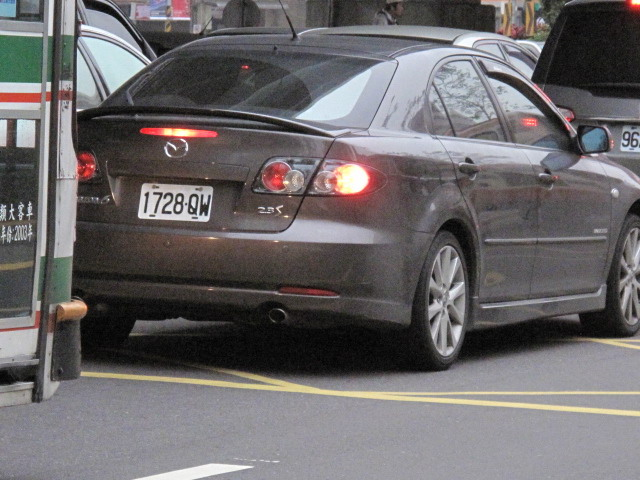plate: (135, 179, 218, 225)
